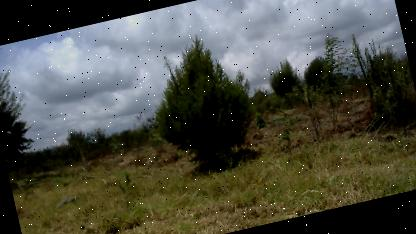tree: (125, 15, 276, 193)
